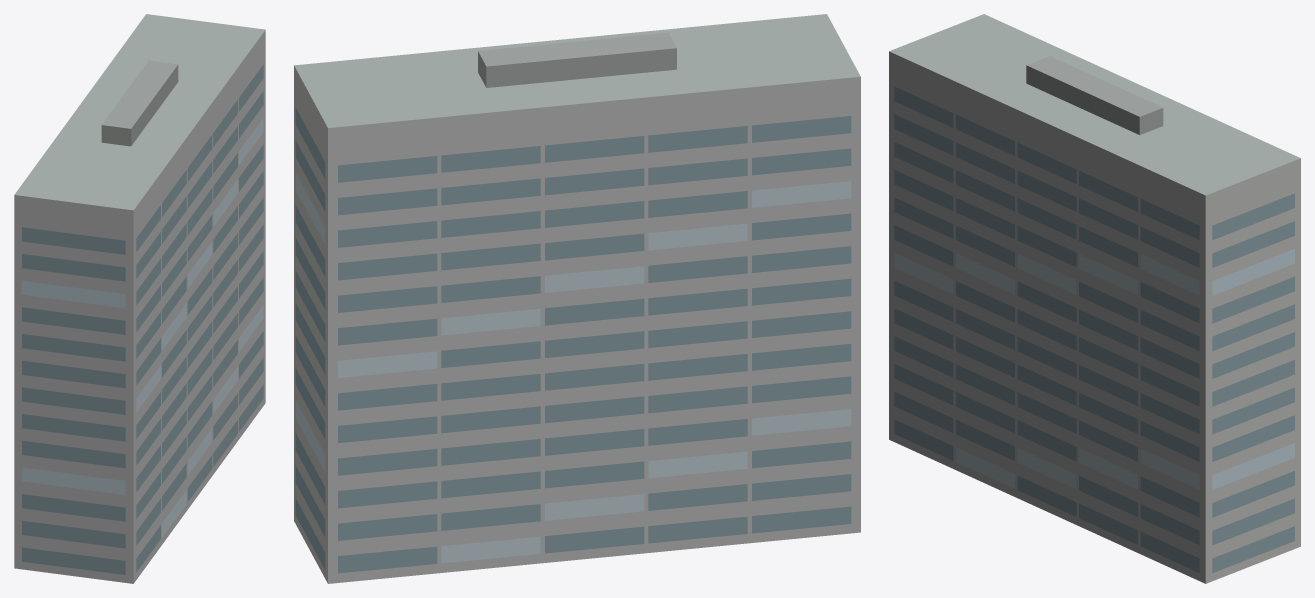
File: fallback-godeok-raemian-hillstate-124.glb
The picture shows the model from 3 angles, left to right: view 1: azimuth 30°, elevation 25°; view 2: azimuth 150°, elevation 25°; view 3: azimuth 270°, elevation 25°; orthographic projection. The views are drawn at different scales.
Visible parts, largest first — view 1: fallback-godeok-raemian-hillstate-124; view 2: fallback-godeok-raemian-hillstate-124; view 3: fallback-godeok-raemian-hillstate-124.
Part boxes in pixels (<box>): fallback-godeok-raemian-hillstate-124: <box>14,14,265,583</box>; fallback-godeok-raemian-hillstate-124: <box>294,14,860,583</box>; fallback-godeok-raemian-hillstate-124: <box>889,14,1300,583</box>.
Bounding box in the file's own units: 42.14 × 44 × 40.4.
